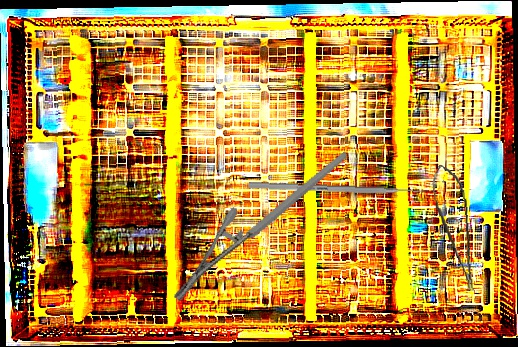Micro Scissor: (429, 161, 478, 295)
Needle Holder: (146, 151, 375, 304)
Pusher: (248, 181, 434, 196)
